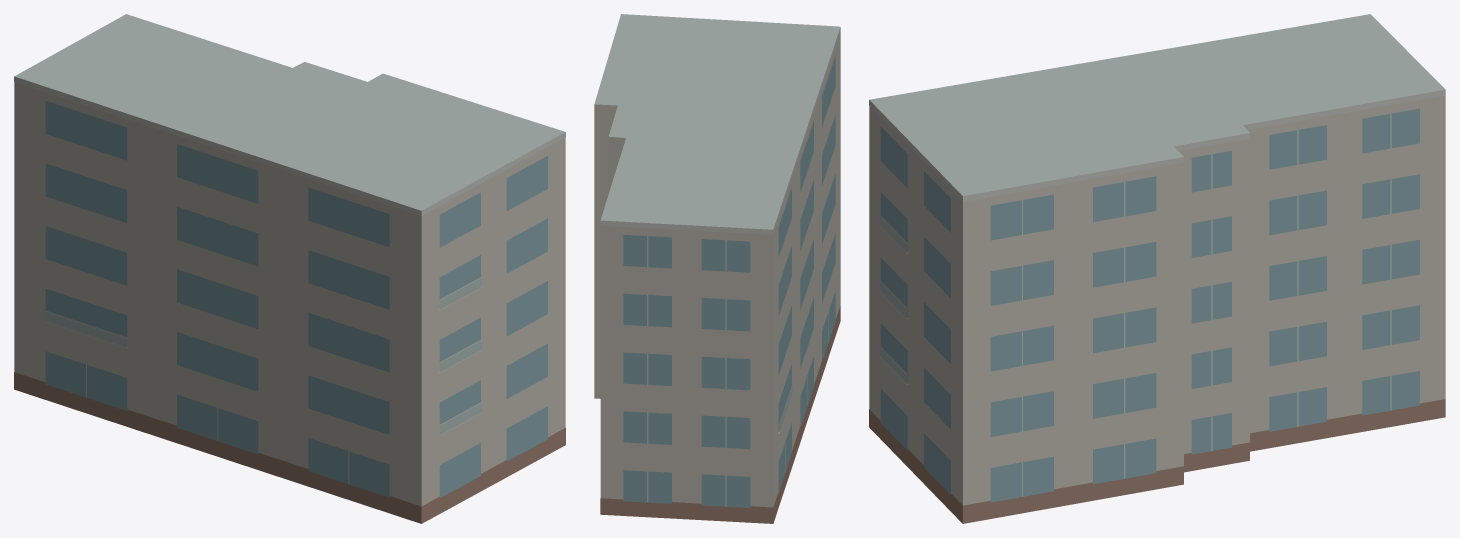
Rendered from survey-upis-32967219.glb.
3 views of the same model, side by side, from view 1: azimuth 30°, elevation 25°; view 2: azimuth 150°, elevation 25°; view 3: azimuth 270°, elevation 25° (orthographic). The views are drawn at different scales.
Visible parts, largest first — view 1: survey-upis-32967219.tmp; view 2: survey-upis-32967219.tmp; view 3: survey-upis-32967219.tmp.
Part boxes in pixels (bbox=[...]): survey-upis-32967219.tmp: bbox=[14, 14, 565, 523]; survey-upis-32967219.tmp: bbox=[594, 14, 840, 523]; survey-upis-32967219.tmp: bbox=[869, 14, 1445, 523].
Bounding box in the file's own units: 16.82 × 14.1 × 22.49.
